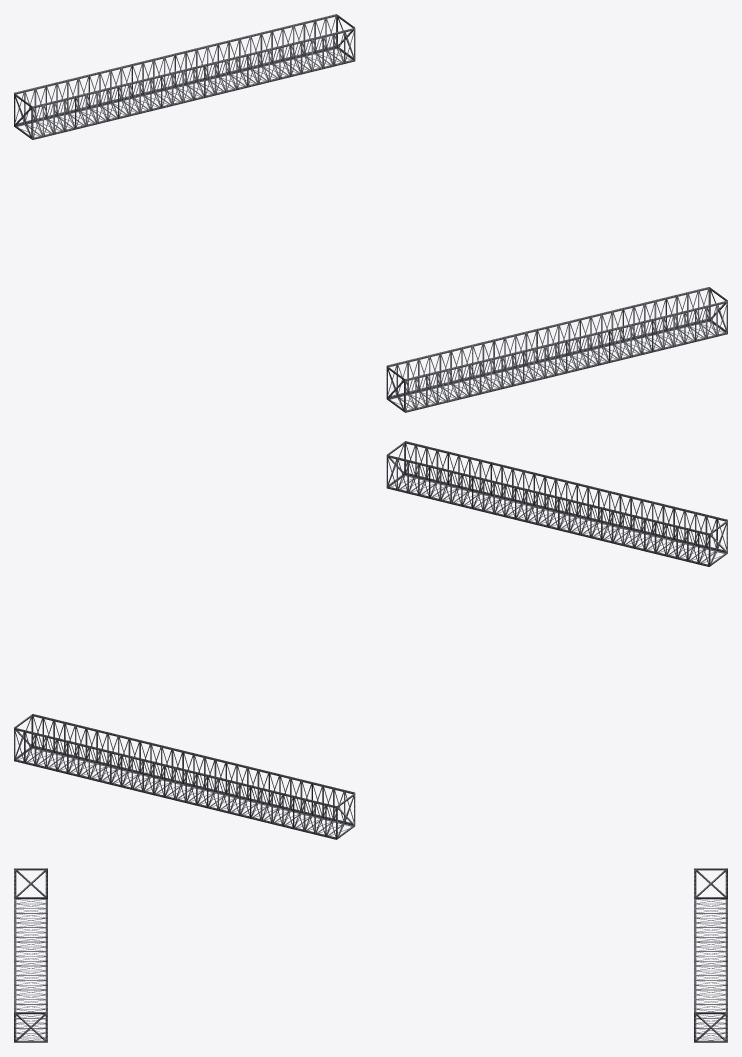
The model's file is dt_small04supports.fbx.
The picture shows the model from 3 angles, top to bottom: view 1: azimuth 30°, elevation 25°; view 2: azimuth 150°, elevation 25°; view 3: azimuth 270°, elevation 25°; orthographic projection. The views are drawn at different scales.
Visible parts, largest first — view 1: mesh_1, mesh_0; view 2: mesh_0, mesh_1; view 3: mesh_0, mesh_1.
Boxes of the visible parts, x1,y1,x2,y2 form: mesh_1: (386, 287, 727, 412); mesh_0: (14, 14, 355, 139); mesh_0: (14, 714, 355, 839); mesh_1: (386, 441, 727, 566); mesh_0: (694, 868, 727, 1042); mesh_1: (14, 868, 47, 1042).
Size of the model in its own units: 400 by 40 by 840.
Materials: 1 (1 with a texture image).
